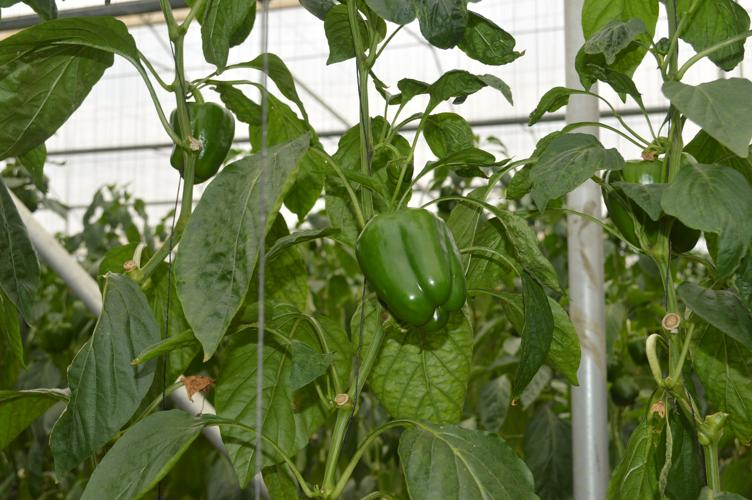BellPepper: (340, 203, 475, 341), (163, 91, 243, 189)
